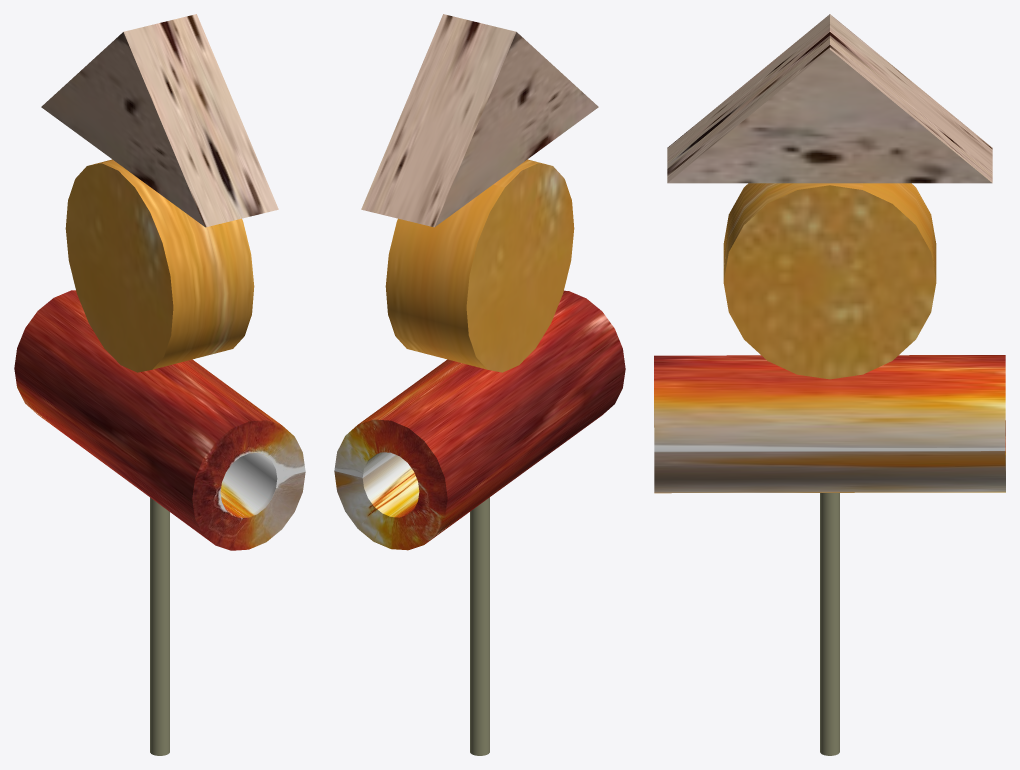
File: Oden3.FBX
3 renders of one model, left to right at view 1: azimuth 30°, elevation 25°; view 2: azimuth 150°, elevation 25°; view 3: azimuth 270°, elevation 25°, orthographic.
Parts seen in each view (by area): view 1: pPipe1, pCylinder1, pPrism1, pCylinder2; view 2: pPipe1, pCylinder1, pPrism1, pCylinder2; view 3: pPipe1, pCylinder1, pPrism1, pCylinder2.
Part boxes in pixels (x1,y1,x2,y2): pPipe1: (14,290,305,550); pCylinder1: (65,159,254,372); pPrism1: (41,14,278,227); pCylinder2: (150,497,169,755); pPipe1: (334,290,625,550); pCylinder1: (385,159,574,372); pPrism1: (361,14,598,227); pCylinder2: (470,497,489,755); pPipe1: (654,355,1005,493); pCylinder1: (723,183,936,379); pPrism1: (667,14,992,183); pCylinder2: (820,493,839,755).
Size of the model in its own units: 0.3982 by 2.44 by 1.08.
